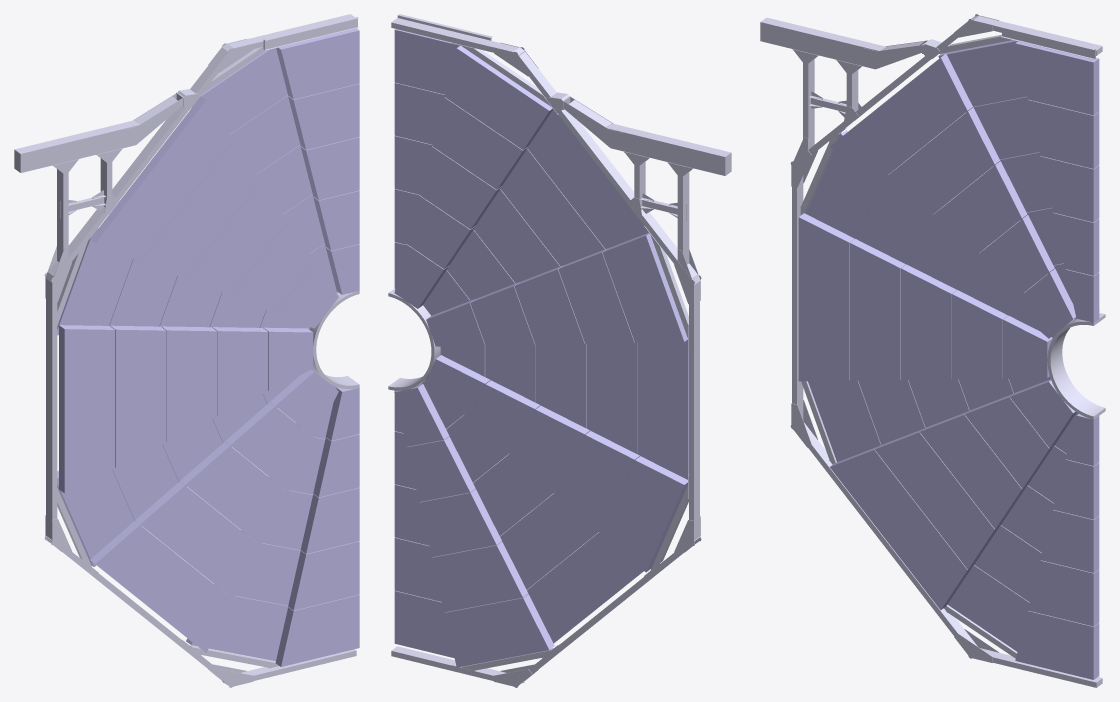
Rendered from Muon-Big-Wheel-MDT-SideA-cut2.glb.
The picture shows the model from 3 angles, left to right: view 1: azimuth 30°, elevation 25°; view 2: azimuth 150°, elevation 25°; view 3: azimuth 330°, elevation 25°; orthographic projection.
Parts seen in each view (by area): view 1: null; view 2: null; view 3: null.
Part boxes in pixels (x1,y1,x2,y2): null: [14, 14, 359, 687]; null: [388, 14, 731, 687]; null: [760, 14, 1105, 687].
Bounding box in the file's own units: 12.86 × 23.42 × 0.78.
